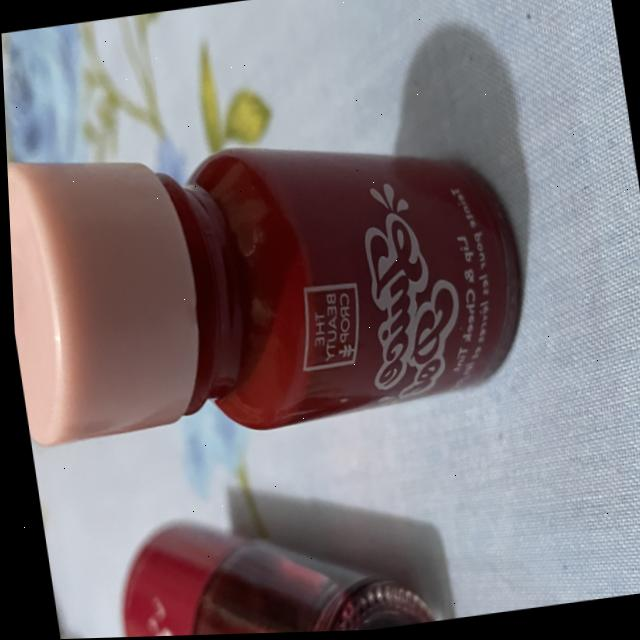Tint: (3, 77, 560, 478), (85, 474, 464, 638)
